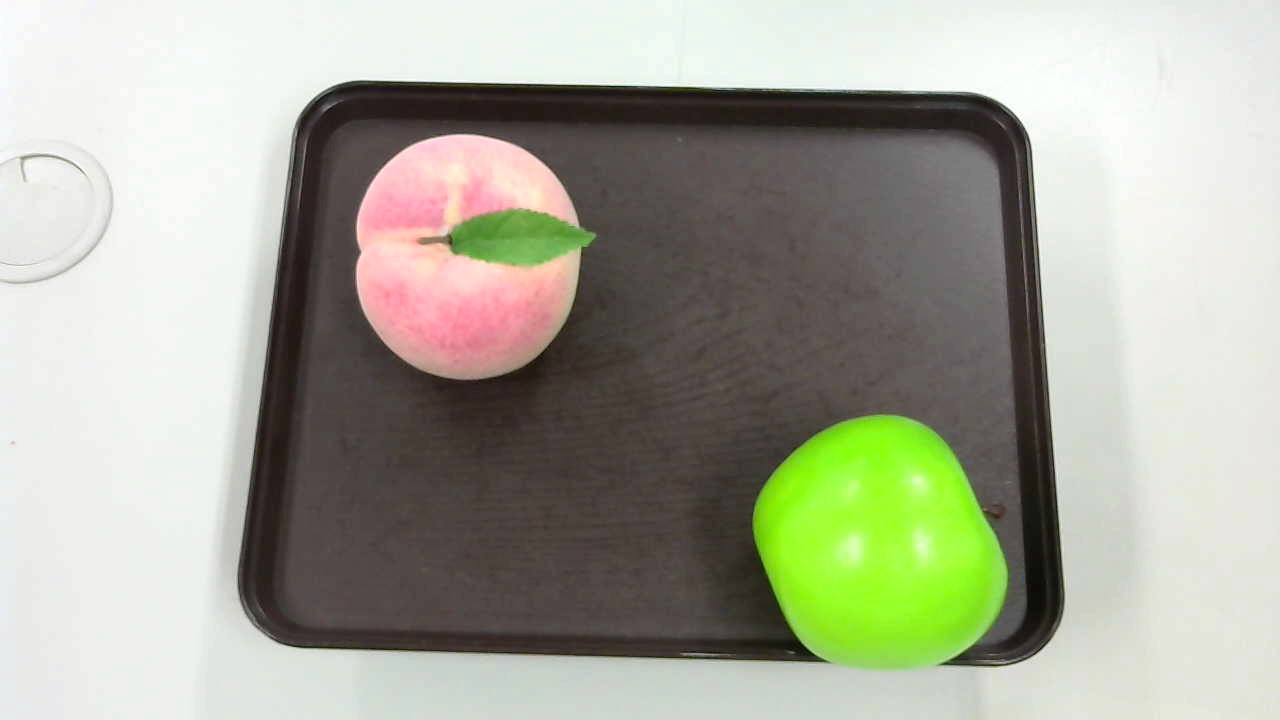green apple: (752, 413, 1010, 683)
peach: (345, 128, 596, 381)
